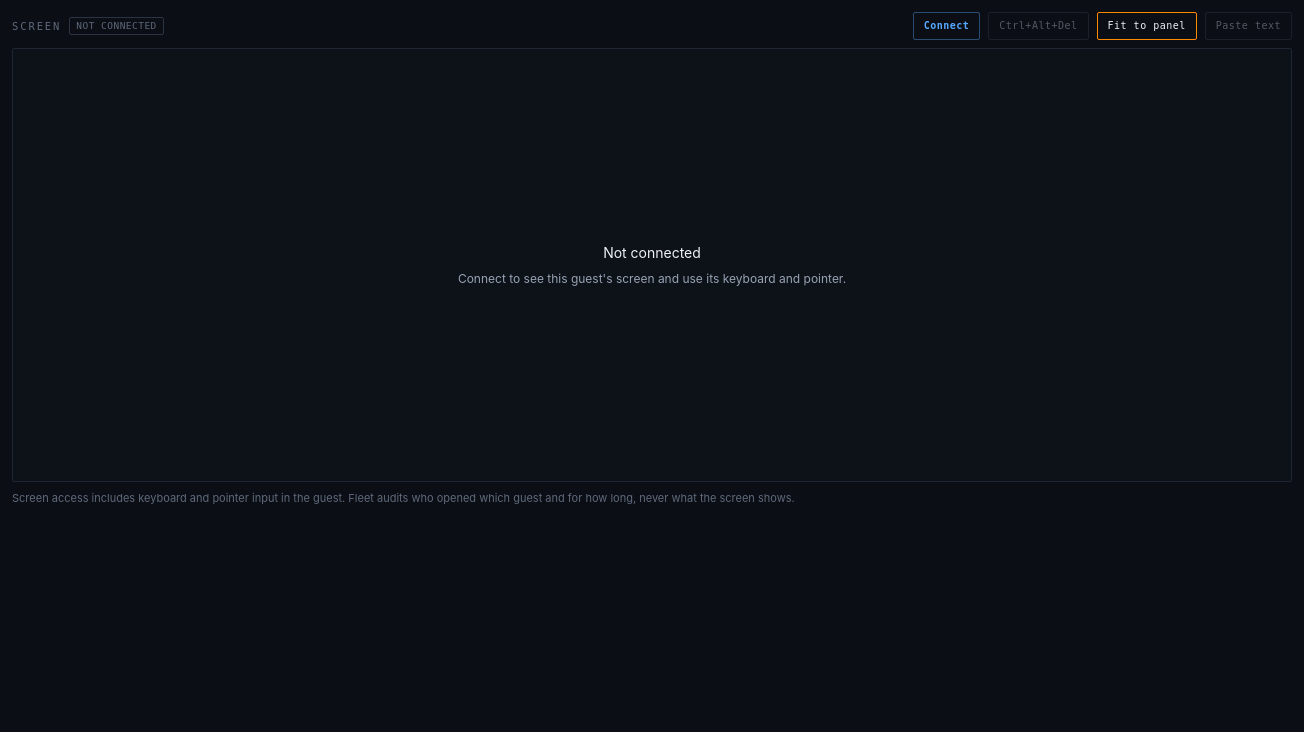
it: ProxmoxConsole › disconnects on request and reports that you closed it
The width and height of the screenshot is (1304, 732).
What coordinates should you click on to do the following:
click the button with test id "console-connect"
I would click on:
 (946, 26)
Its box is top-left (913, 12), bottom-right (980, 40).
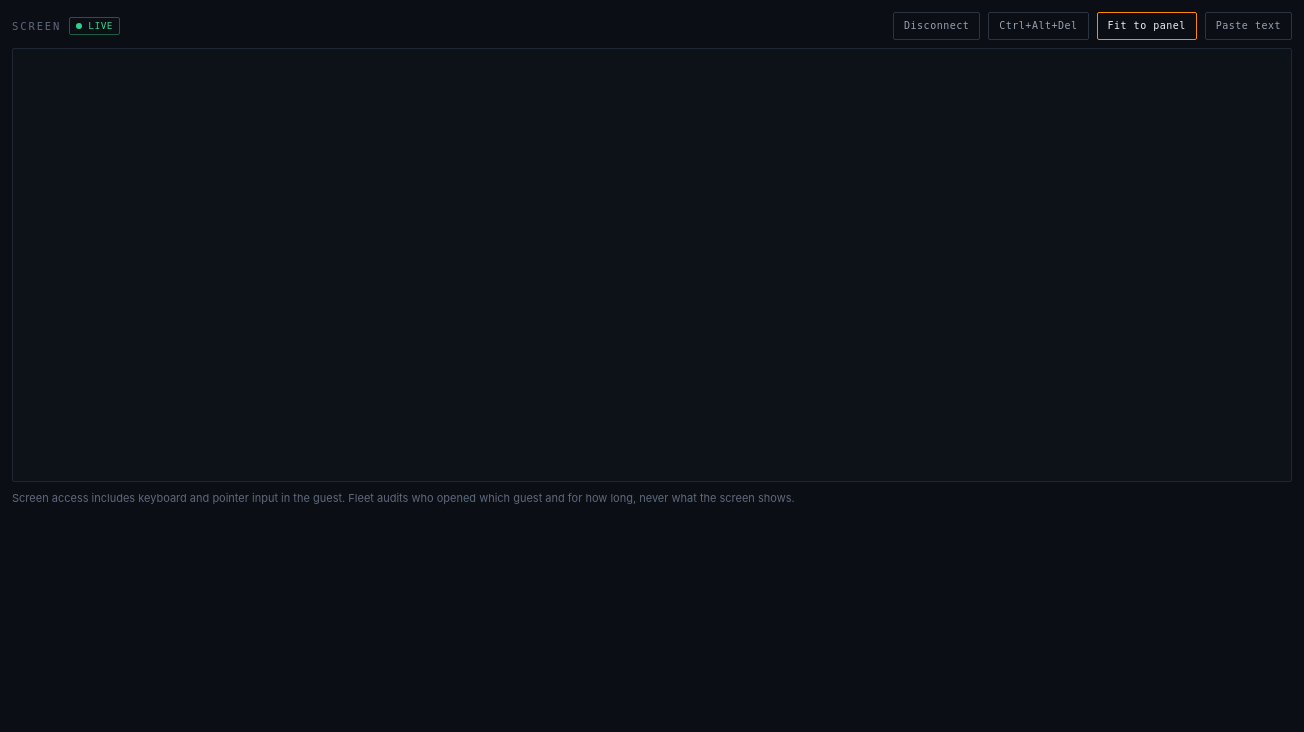
What coordinates should you click on to do the following:
click the button with test id "console-disconnect"
I would click on:
 (937, 26)
Its box is top-left (893, 12), bottom-right (980, 40).
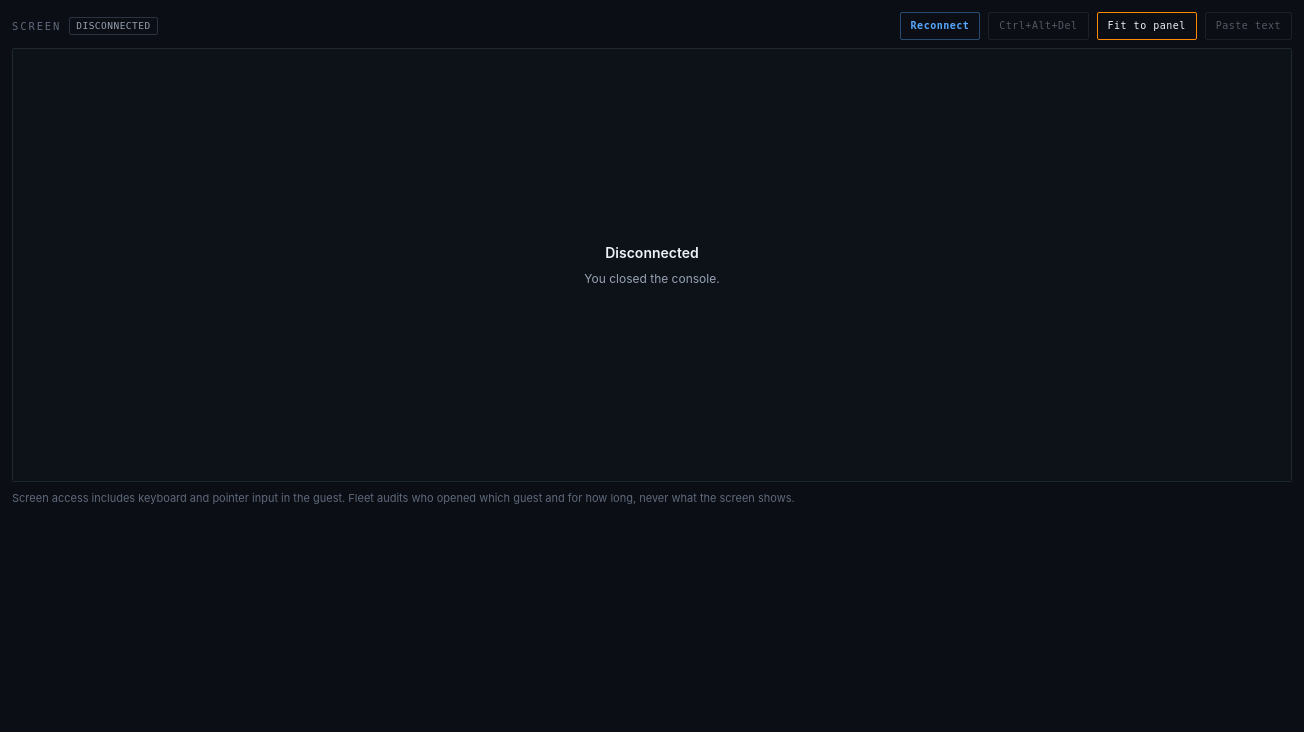
Check: the text with test id "console-end-title" reads "Disconnected", box top-left (605, 244), bottom-right (699, 261)
Check: the text with test id "console-end-detail" shows "You closed", box top-left (584, 271), bottom-right (720, 286)
Check: the button with test id "console-connect" reads "Reconnect", box top-left (900, 12), bottom-right (980, 40)
